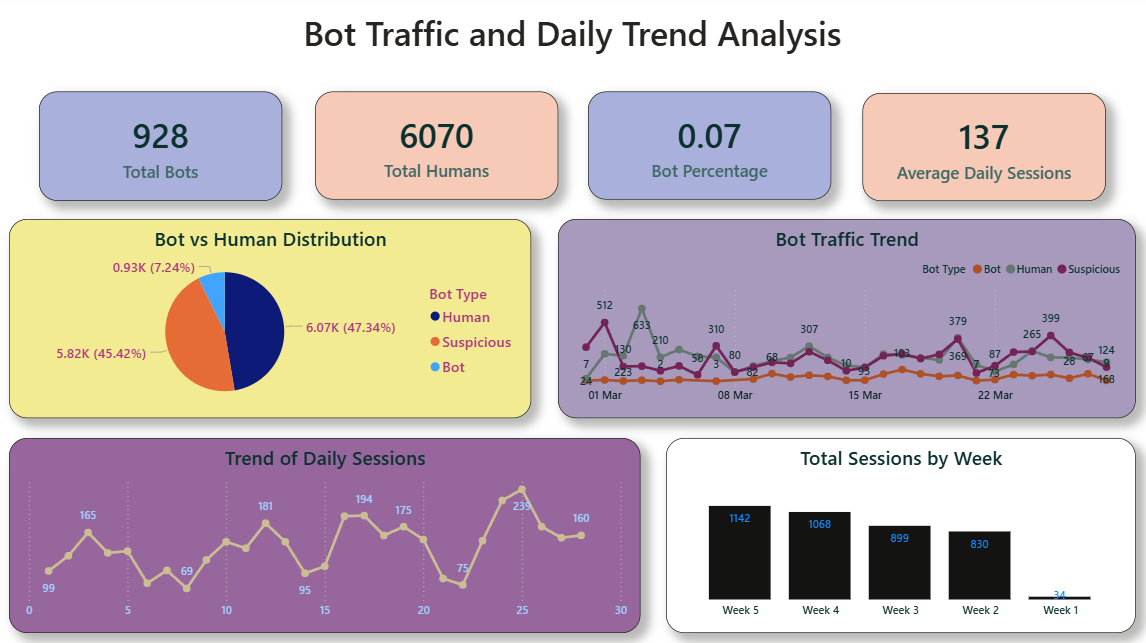

Layout of this report page (visuals, bound fields, positions):
{"tool":"powerbi","page":{"name":"Part 2","canvas":[1280,720],"ordinal":1},"visuals":[{"type":"card","fields":{"Values":["BotSignal.Total Bots"]},"box":[49.7,107.7,268.3,120.9],"z":0},{"type":"card","fields":{"Values":["BotSignal.Total Humans"]},"box":[354.5,107.7,268.3,119.3],"z":1000},{"type":"card","fields":{"Values":["BotSignal.Bot Percentage"]},"box":[656,107.7,268.3,119.3],"z":2000},{"type":"pieChart","title":"Bot vs Human Distribution","fields":{"Category":["BotSignal.Bot Type"],"Y":["CountNonNull(BotSignal.id)"]},"box":[16.6,248.5,576.5,220.3],"z":3000},{"type":"lineChart","title":"Bot Traffic Trend","fields":{"Series":["BotSignal.Bot Type"],"Y":["CountNonNull(BotSignal.id)"],"Category":["Date Table.Date.Variation.Date Hierarchy.Year","Date Table.Date.Variation.Date Hierarchy.Quarter","Date Table.Date.Variation.Date Hierarchy.Month","Date Table.Date.Variation.Date Hierarchy.Day"]},"box":[622.8,248.5,637.7,220.3],"z":4000},{"type":"lineChart","title":"Trend of Daily Sessions","fields":{"Y":["CountNonNull(Session.id)"],"Category":["Date Table.Day"]},"box":[16.6,490.3,697.4,215.3],"z":5000},{"type":"textbox","box":[16.6,11.6,1244,84.5],"z":6000},{"type":"clusteredColumnChart","title":"Total Sessions by Week","fields":{"Y":["Session.Total Sessions"],"Category":["Date Table.Week Label"]},"box":[742.1,490.3,518.5,215.3],"z":7000},{"type":"card","fields":{"Values":["Session.Average Daily Sessions"]},"box":[959.1,109.3,268.3,119.3],"z":8000},{"type":"image","box":[16.2,12.2,105.3,85.1],"z":9000}]}

Visuals, with their boxes in screenshot pixels (x1, y1, x2, y2), scaled from the page's 1280x720 canvas onto the 1146x643 screenshot:
card - BotSignal.Total Bots: l=44, t=96, r=285, b=204
card - BotSignal.Total Humans: l=317, t=96, r=558, b=203
card - BotSignal.Bot Percentage: l=587, t=96, r=828, b=203
"Bot vs Human Distribution" pieChart: l=15, t=222, r=531, b=419
"Bot Traffic Trend" lineChart: l=558, t=222, r=1129, b=419
"Trend of Daily Sessions" lineChart: l=15, t=438, r=639, b=630
textbox: l=15, t=10, r=1129, b=86
"Total Sessions by Week" clusteredColumnChart: l=664, t=438, r=1129, b=630
card - Session.Average Daily Sessions: l=859, t=98, r=1099, b=204
image: l=15, t=11, r=109, b=87
